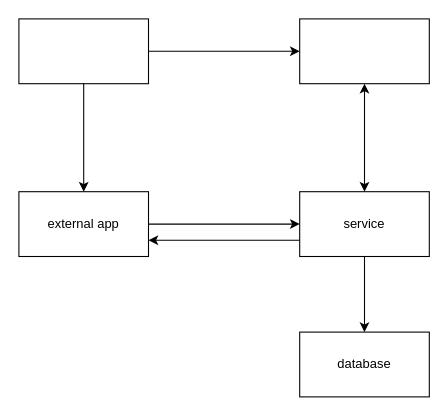
Some shapes in this 448 by 416 pixel diagram are drawn without their labels. Each missing label, with the centre of its shape:
"app" goes at (x=364, y=51).
"user" goes at (x=83, y=51).
